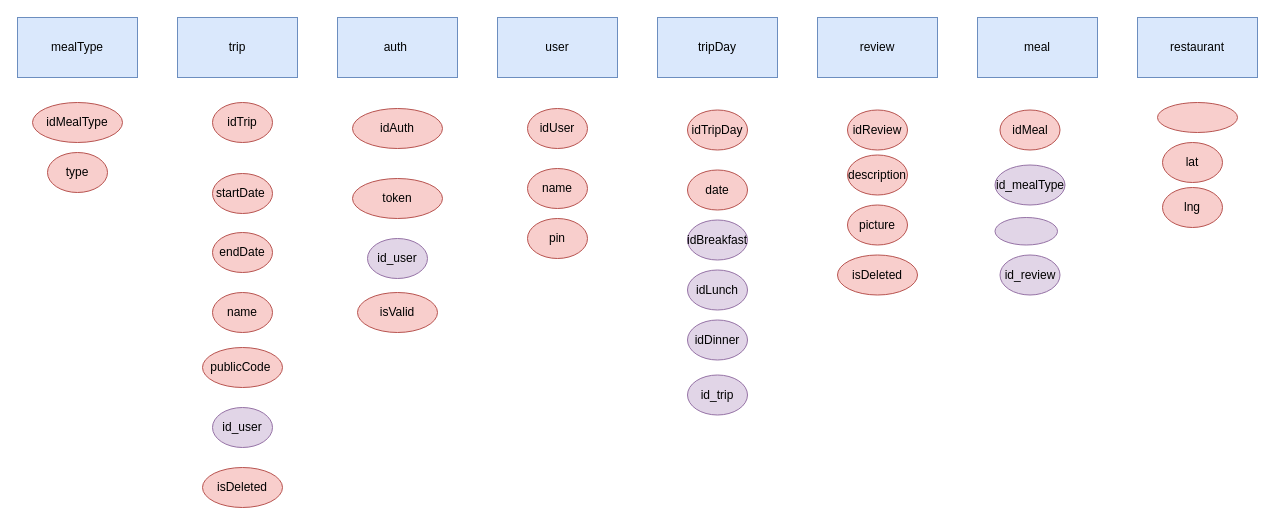
The diagram is 1275 pixels wide and 525 high, and some of its shapes have lost their labels. The centre of each missing label's shape, as x and y in pixels:
"id_restaurant" goes at (x=1026, y=230).
"idRestaurant" goes at (x=1197, y=117).
